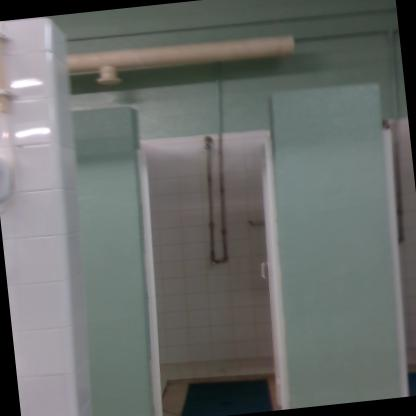open: (94, 98, 322, 415)
